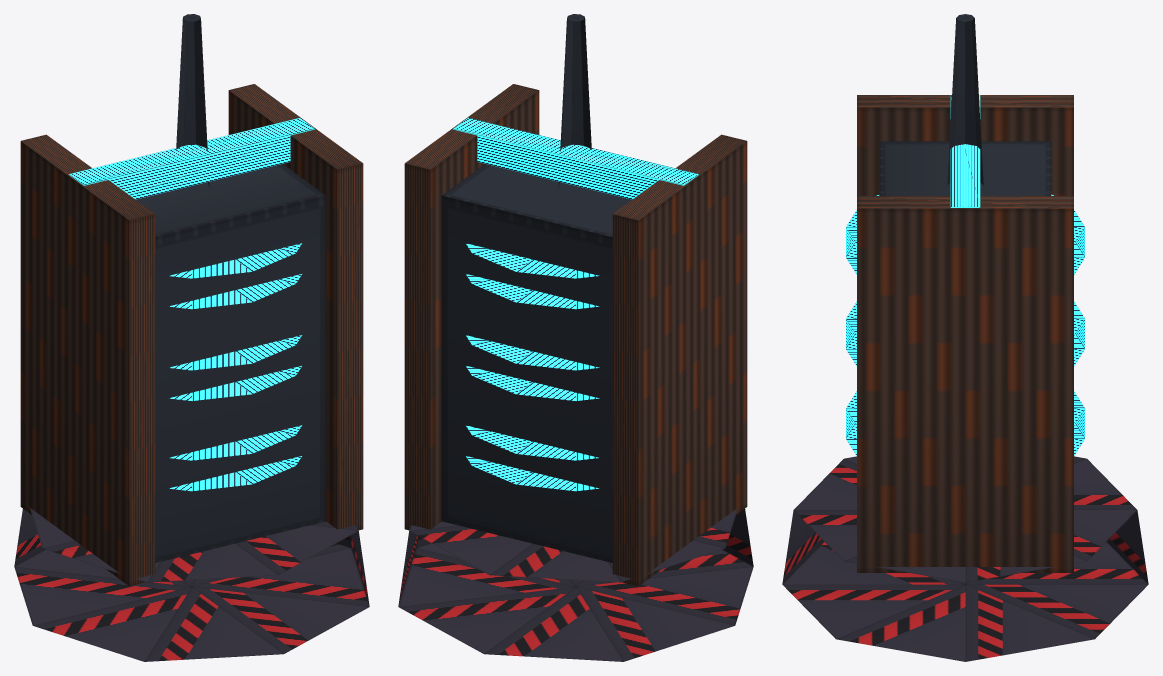
File: ashblock_syndicate_relay.glb
3 renders of one model, left to right at view 1: azimuth 30°, elevation 25°; view 2: azimuth 150°, elevation 25°; view 3: azimuth 270°, elevation 25°, orthographic.
Visible parts, largest first — view 1: ashblock_syndicate_relay; view 2: ashblock_syndicate_relay; view 3: ashblock_syndicate_relay.
Boxes of the visible parts, bbox=[...] form: ashblock_syndicate_relay: bbox=[14, 14, 369, 661]; ashblock_syndicate_relay: bbox=[398, 14, 753, 661]; ashblock_syndicate_relay: bbox=[782, 14, 1148, 661].
Bounding box in the file's own units: 1.96 × 3.35 × 1.96.
Materials: 1 (1 with a texture image).
